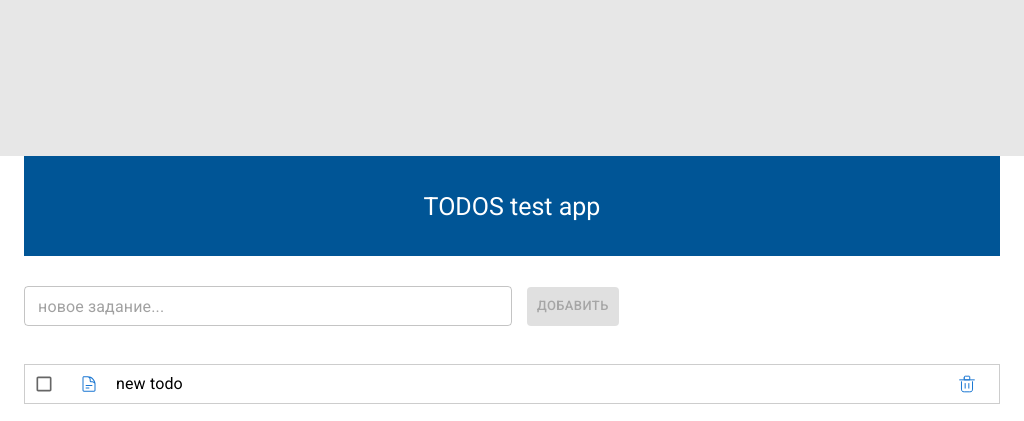
Todos list tests › Удаление задания
(page scrolled)
Expected: the number of list items is 1, [24,364,1000,404]
Click the 3rd button at coordinates (967, 384), box [935,366,999,402]
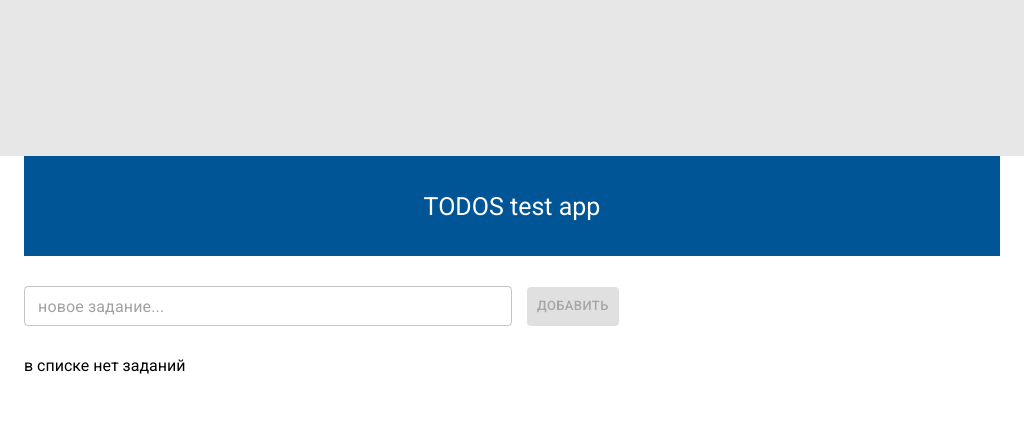
Now the text "в списке нет заданий" is shown, box [24,356,186,375]
